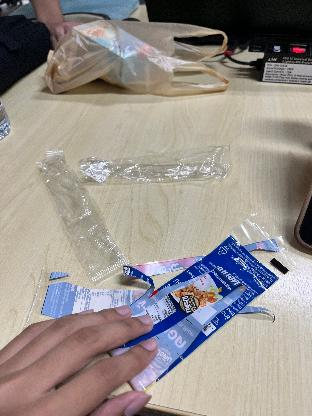Others: (130, 210, 294, 388), (30, 147, 128, 283), (79, 142, 248, 194)
